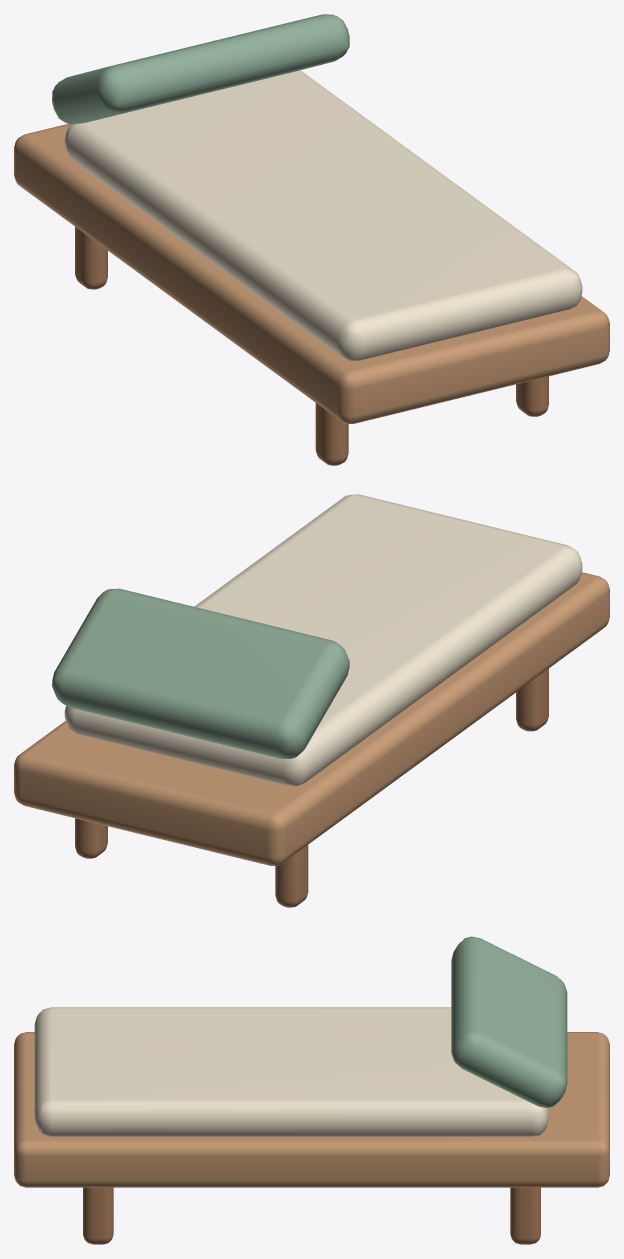
The model's file is lounger.glb.
3 views of the same model, one above another, from view 1: azimuth 30°, elevation 25°; view 2: azimuth 150°, elevation 25°; view 3: azimuth 270°, elevation 25° (orthographic). The views are drawn at different scales.
Visible parts, largest first — view 1: Body_linen, Body_cedar, Body_sage, Body_wood; view 2: Body_linen, Body_cedar, Body_sage, Body_wood; view 3: Body_linen, Body_cedar, Body_sage, Body_wood.
Part boxes in pixels (bbox=[...]): Body_linen: bbox=[64, 70, 582, 361]; Body_cedar: bbox=[14, 124, 609, 423]; Body_sage: bbox=[52, 14, 349, 124]; Body_wood: bbox=[75, 227, 548, 465]; Body_linen: bbox=[64, 494, 582, 786]; Body_cedar: bbox=[14, 572, 609, 865]; Body_sage: bbox=[52, 588, 349, 758]; Body_wood: bbox=[75, 668, 548, 907]; Body_linen: bbox=[34, 1007, 548, 1136]; Body_cedar: bbox=[14, 1032, 609, 1187]; Body_sage: bbox=[451, 936, 567, 1108]; Body_wood: bbox=[83, 1187, 540, 1244].
Bounding box in the file's own units: 1.35 × 1.15 × 2.9.
